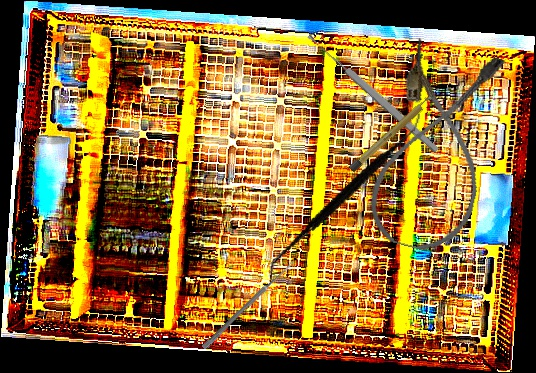Cannula: (360, 35, 513, 261)
Scalpel Handle: (348, 93, 436, 173)
Spatula Surgical: (267, 88, 423, 306)
Surgical Spoon: (305, 31, 441, 155), (201, 259, 296, 351)
